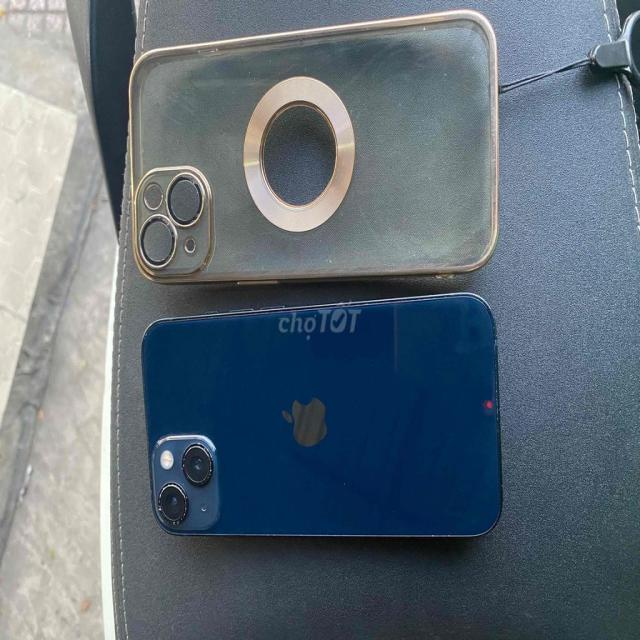scratch: (152, 438, 218, 531), (478, 300, 507, 445)
